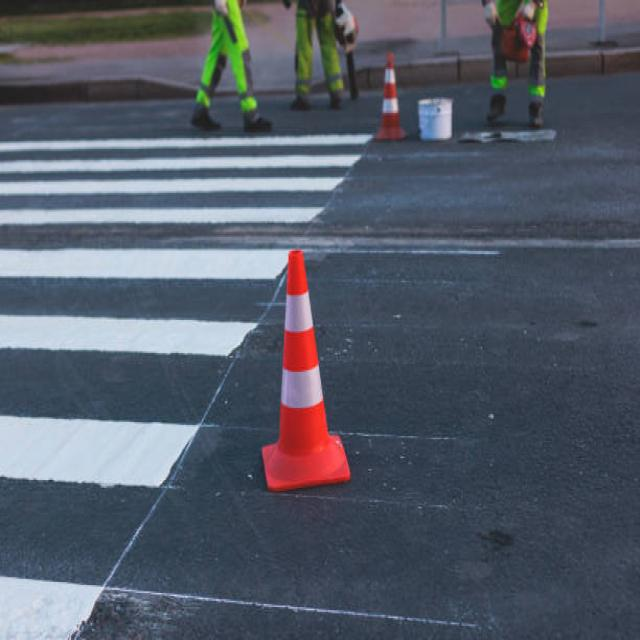Traffic Cone: (234, 232, 376, 523), (364, 37, 414, 155)
